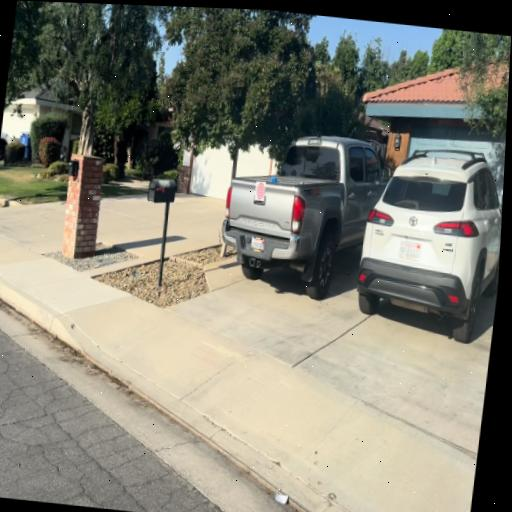bullseye: (255, 181, 266, 200)
